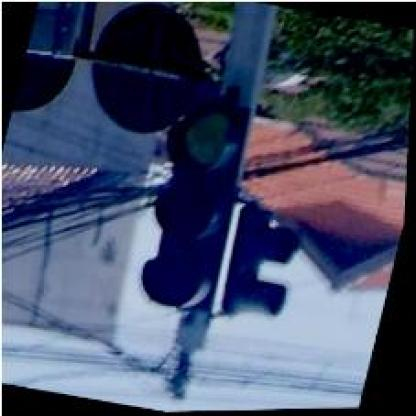green: (128, 93, 260, 318)
